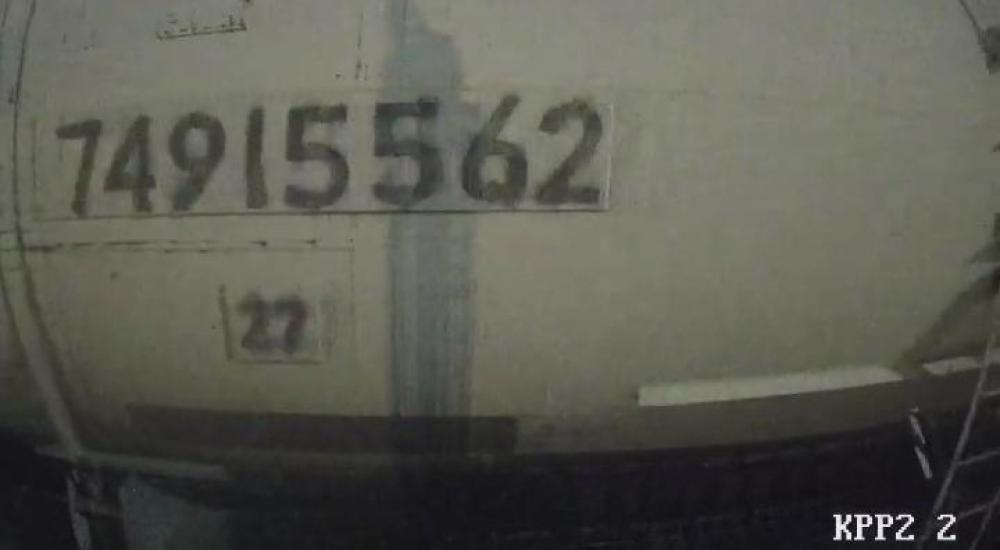Wagon-number: (50, 92, 615, 224)
